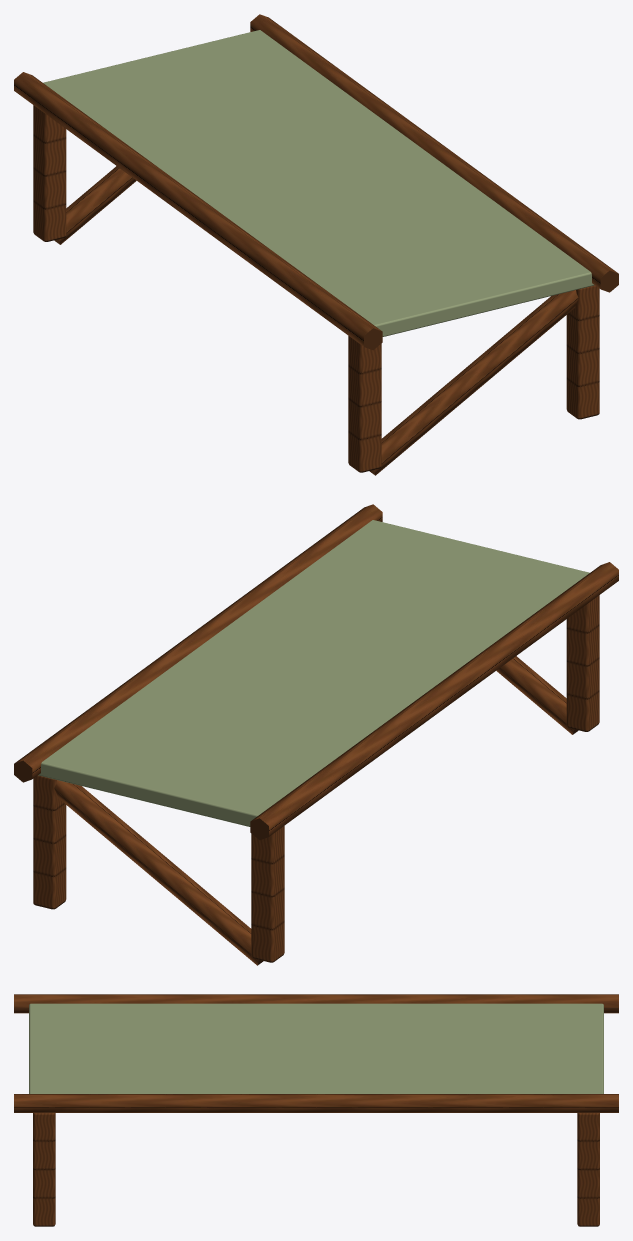
The model's file is wilderness-survival-camp-raised-camp-cot-fdc4a743__21945.glb.
3 renders of one model, top to bottom at view 1: azimuth 30°, elevation 25°; view 2: azimuth 150°, elevation 25°; view 3: azimuth 270°, elevation 25°, orthographic. The views are drawn at different scales.
Visible parts, largest first — view 1: raised-camp-cot; view 2: raised-camp-cot; view 3: raised-camp-cot.
Part boxes in pixels (x1,y1,x2,y2): raised-camp-cot: [14, 14, 618, 475]; raised-camp-cot: [14, 504, 618, 965]; raised-camp-cot: [14, 994, 618, 1226].
Bounding box in the file's own units: 0.8407 × 0.5113 × 2.
2 materials, 1 textured.
